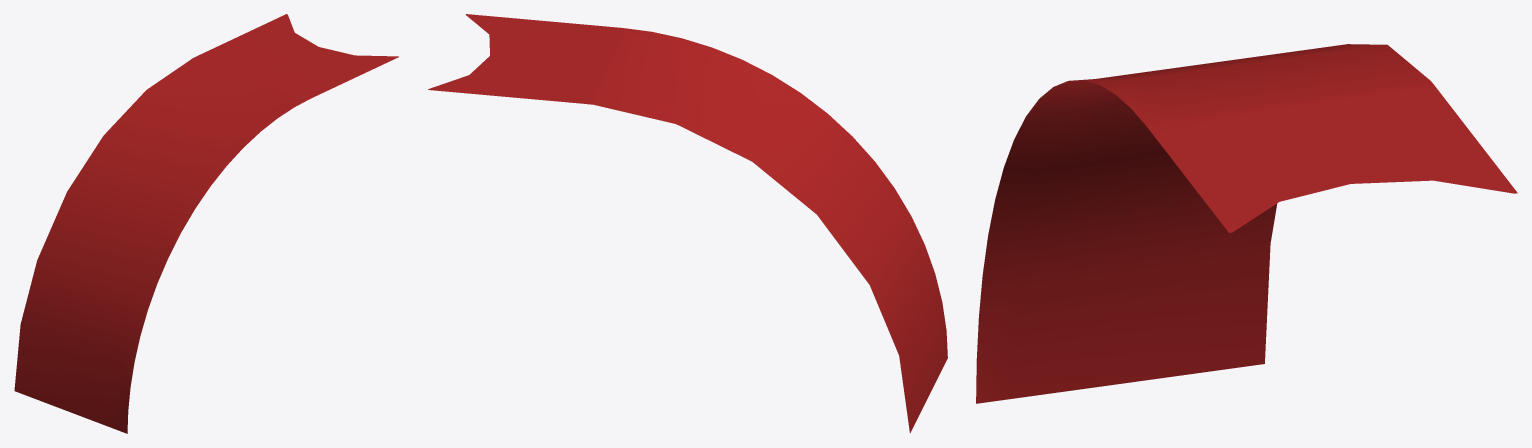
File: original-32.obj
3 renders of one model, left to right at view 1: azimuth 30°, elevation 25°; view 2: azimuth 150°, elevation 25°; view 3: azimuth 270°, elevation 25°, orthographic. The views are drawn at different scales.
Visible parts, largest first — view 1: Obj_000008_1_1_1/Obj_000008_1_1/mesh51/mesh51-geometry#mesh51-ge; view 2: Obj_000008_1_1_1/Obj_000008_1_1/mesh51/mesh51-geometry#mesh51-ge; view 3: Obj_000008_1_1_1/Obj_000008_1_1/mesh51/mesh51-geometry#mesh51-ge.
Part boxes in pixels (x1,y1,x2,y2): Obj_000008_1_1_1/Obj_000008_1_1/mesh51/mesh51-geometry#mesh51-ge: (14, 14, 398, 433); Obj_000008_1_1_1/Obj_000008_1_1/mesh51/mesh51-geometry#mesh51-ge: (428, 14, 947, 433); Obj_000008_1_1_1/Obj_000008_1_1/mesh51/mesh51-geometry#mesh51-ge: (976, 44, 1517, 403).
Size of the model in its own units: 0.082 by 0.0519 by 0.0512.
